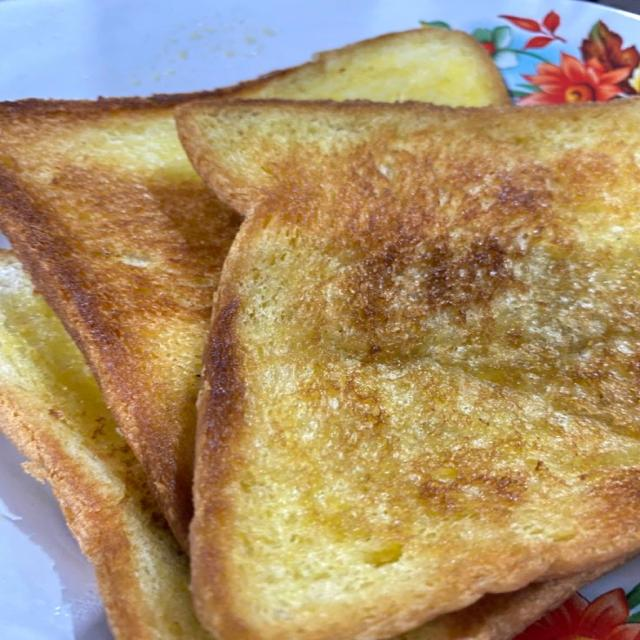toast bread: (0, 30, 506, 544), (178, 99, 639, 639), (0, 252, 211, 639), (0, 252, 210, 639)
